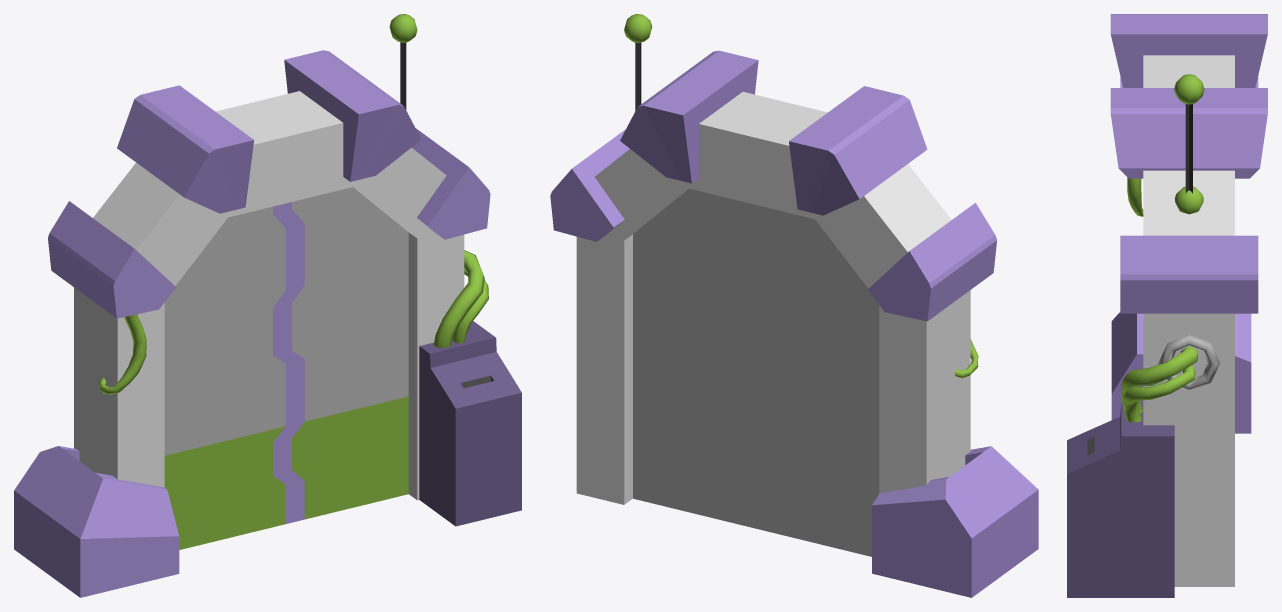
The model's file is door.fbx.
3 renders of one model, left to right at view 1: azimuth 30°, elevation 25°; view 2: azimuth 150°, elevation 25°; view 3: azimuth 270°, elevation 25°, orthographic. The views are drawn at different scales.
Parts seen in each view (by area): view 1: Cube.001, Cube.006, Cube.004; view 2: Cube.001, Cube.006, Cube.004; view 3: Cube.001.
Part boxes in pixels (x1,y1,x2,y2): Cube.001: (14, 14, 521, 597); Cube.006: (164, 204, 295, 549); Cube.004: (282, 187, 408, 521); Cube.001: (550, 14, 1038, 597); Cube.006: (747, 206, 879, 556); Cube.004: (633, 188, 760, 526); Cube.001: (1067, 14, 1267, 597).
Size of the model in its own units: 334 by 350 by 130.
